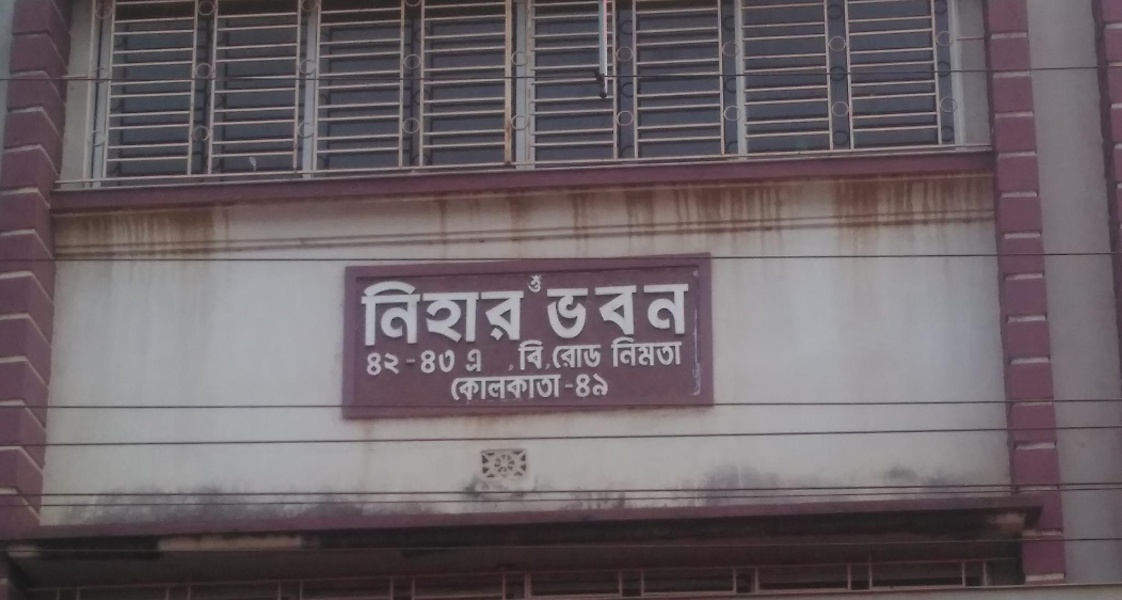text: (369, 281, 384, 347), (385, 281, 400, 347), (401, 281, 416, 347), (417, 281, 432, 347), (433, 281, 448, 347), (449, 281, 464, 347), (465, 281, 480, 347), (481, 281, 496, 347), (497, 281, 512, 347), (545, 283, 560, 341), (561, 283, 576, 341), (577, 283, 592, 341), (593, 283, 608, 341), (609, 283, 624, 341), (625, 283, 640, 341), (641, 283, 656, 341), (657, 283, 672, 341), (673, 283, 688, 341), (513, 281, 526, 347), (358, 281, 368, 347), (529, 339, 544, 371), (401, 349, 417, 379), (609, 336, 624, 368), (625, 336, 640, 368), (641, 336, 656, 368), (657, 336, 672, 368), (369, 349, 384, 379), (385, 349, 400, 379), (465, 374, 480, 404), (481, 374, 496, 404), (497, 374, 512, 404), (513, 374, 528, 404), (529, 374, 544, 404), (545, 374, 560, 404), (561, 374, 576, 404), (577, 373, 592, 402), (593, 373, 608, 402), (433, 349, 448, 375), (451, 374, 464, 404), (673, 336, 685, 368), (466, 348, 480, 374), (561, 345, 576, 369), (577, 345, 592, 369), (518, 339, 528, 371), (530, 274, 544, 295), (421, 349, 432, 375), (593, 345, 603, 369), (545, 339, 552, 371), (552, 345, 560, 369), (449, 349, 456, 375), (689, 283, 691, 341), (365, 349, 368, 379), (481, 348, 484, 374), (507, 361, 512, 375), (513, 361, 518, 375), (609, 373, 611, 402), (575, 373, 576, 402)
